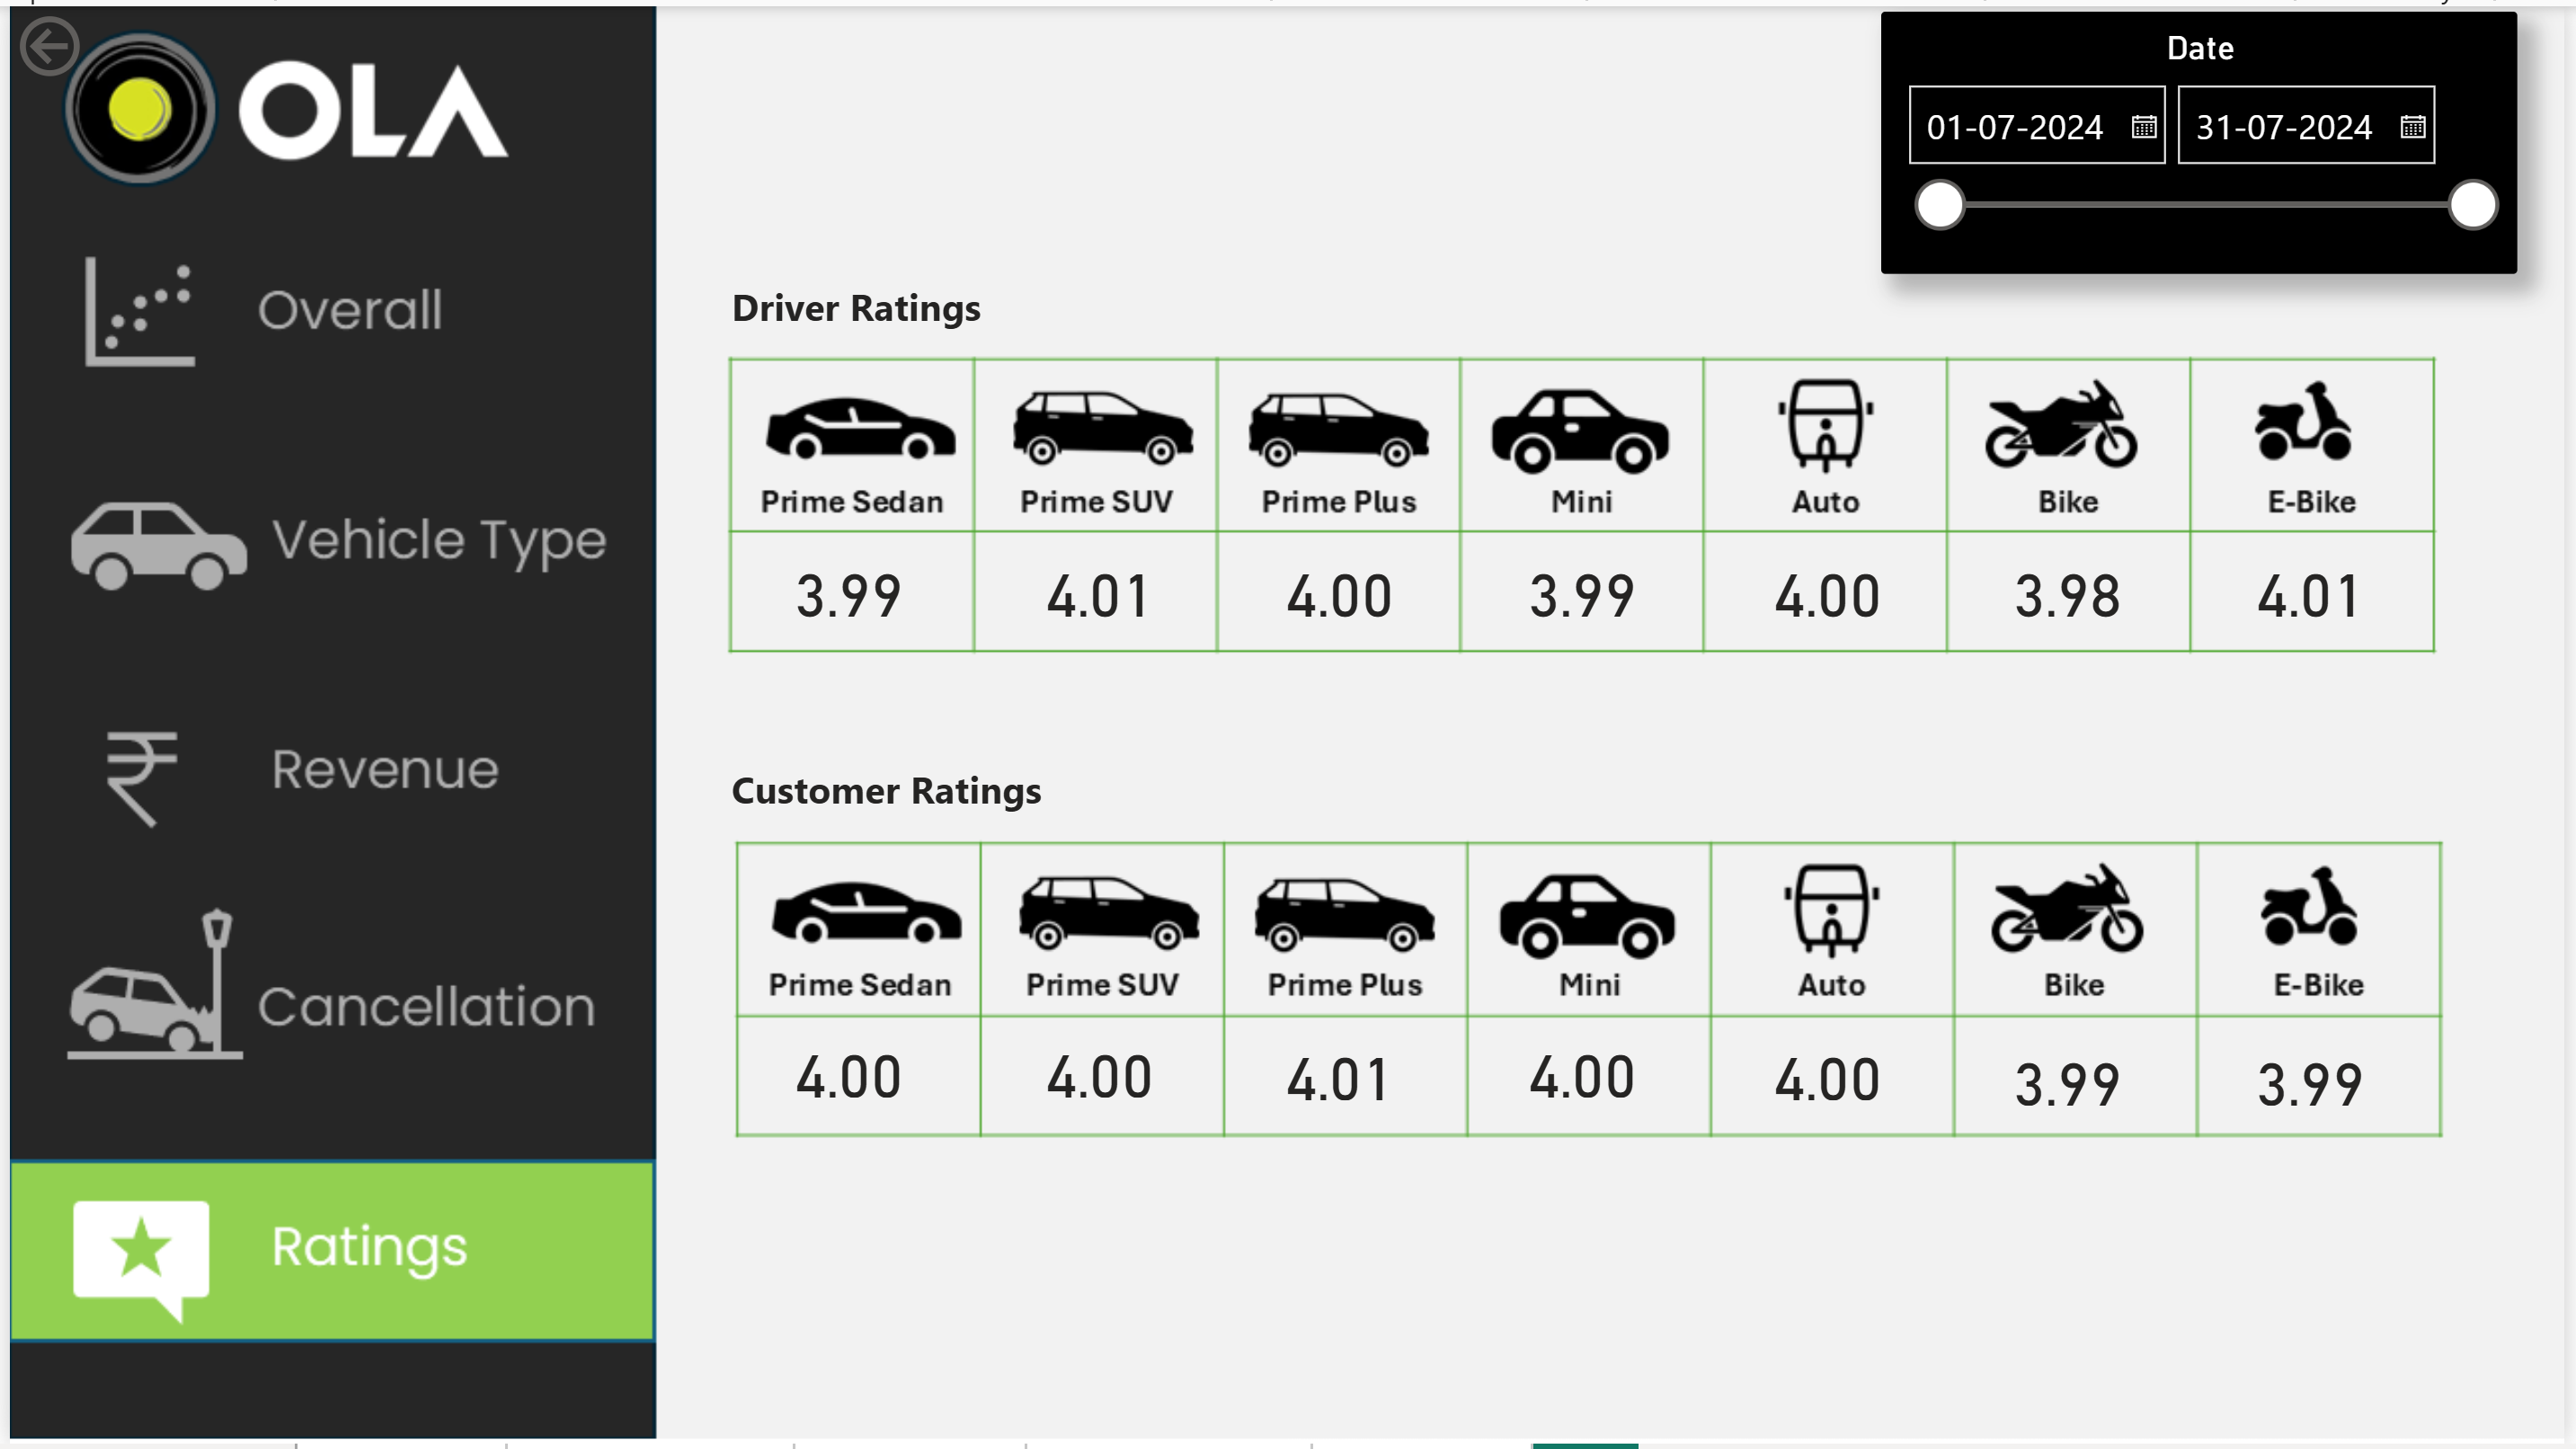

What the dashboard file says about the page in this screenshot:
{"tool":"powerbi","page":{"name":"Ratings","canvas":[1280,720],"ordinal":4},"visuals":[{"type":"actionButton","box":[0,106.2,326.2,91.2],"z":0},{"type":"actionButton","box":[0,223.8,326.2,91.2],"z":1000},{"type":"actionButton","box":[0,447.5,326.2,91.2],"z":2000},{"type":"actionButton","box":[0,338.8,326.2,91.2],"z":3000},{"type":"card","fields":{"Values":["Avg(July.Driver_Ratings)"]},"box":[367.1,270,105.7,45.7],"z":4000},{"type":"card","fields":{"Values":["Avg(July.Driver_Ratings)"]},"box":[492.9,270,105.7,45.7],"z":5000},{"type":"card","fields":{"Values":["Avg(July.Driver_Ratings)"]},"box":[612.9,270,105.7,45.7],"z":6000},{"type":"card","fields":{"Values":["Avg(July.Driver_Ratings)"]},"box":[734.3,270,105.7,45.7],"z":7000},{"type":"card","fields":{"Values":["Avg(July.Driver_Ratings)"]},"box":[857.1,270,105.7,45.7],"z":8000},{"type":"card","fields":{"Values":["Avg(July.Driver_Ratings)"]},"box":[978.6,270,105.7,45.7],"z":9000},{"type":"card","fields":{"Values":["Avg(July.Driver_Ratings)"]},"box":[1100,270,105.7,45.7],"z":10000},{"type":"textbox","box":[357.1,132.9,168.6,38.6],"z":11000},{"type":"textbox","box":[357.1,374.3,188.6,40],"z":12000},{"type":"card","fields":{"Values":["Avg(July.Customer_Rating)"]},"box":[367.1,515.7,105.7,35.7],"z":13000},{"type":"actionButton","box":[0,0,100,40],"z":14000},{"type":"card","fields":{"Values":["Avg(July.Customer_Rating)"]},"box":[492.9,515.7,105.7,35.7],"z":15000},{"type":"card","fields":{"Values":["Avg(July.Customer_Rating)"]},"box":[612.9,517.1,105.7,35.7],"z":16000},{"type":"card","fields":{"Values":["Avg(July.Customer_Rating)"]},"box":[734.3,515.7,105.7,35.7],"z":17000},{"type":"card","fields":{"Values":["Avg(July.Customer_Rating)"]},"box":[857.1,517.1,105.7,35.7],"z":18000},{"type":"card","fields":{"Values":["Avg(July.Customer_Rating)"]},"box":[978.6,520,105.7,35.7],"z":19000},{"type":"card","fields":{"Values":["Avg(July.Customer_Rating)"]},"box":[1100,520,105.7,35.7],"z":20000},{"type":"slicer","title":"Date","fields":{"Values":["July.Date"]},"box":[937.1,2.9,318.6,131.4],"z":21000}]}

Visuals, with their boxes in screenshot pixels (x1, y1, x2, y2), scaled from the page's 1280x720 canvas onto the 2576x1449 screenshot:
actionButton: x1=0, y1=214, x2=656, y2=397
actionButton: x1=0, y1=450, x2=656, y2=634
actionButton: x1=0, y1=901, x2=656, y2=1084
actionButton: x1=0, y1=682, x2=656, y2=866
card - Avg(July.Driver_Ratings): x1=739, y1=543, x2=952, y2=636
card - Avg(July.Driver_Ratings): x1=992, y1=543, x2=1204, y2=636
card - Avg(July.Driver_Ratings): x1=1233, y1=543, x2=1446, y2=636
card - Avg(July.Driver_Ratings): x1=1478, y1=543, x2=1691, y2=636
card - Avg(July.Driver_Ratings): x1=1725, y1=543, x2=1938, y2=636
card - Avg(July.Driver_Ratings): x1=1969, y1=543, x2=2182, y2=636
card - Avg(July.Driver_Ratings): x1=2214, y1=543, x2=2427, y2=636
textbox: x1=719, y1=268, x2=1058, y2=345
textbox: x1=719, y1=753, x2=1098, y2=834
card - Avg(July.Customer_Rating): x1=739, y1=1038, x2=952, y2=1110
actionButton: x1=0, y1=0, x2=201, y2=81
card - Avg(July.Customer_Rating): x1=992, y1=1038, x2=1204, y2=1110
card - Avg(July.Customer_Rating): x1=1233, y1=1041, x2=1446, y2=1113
card - Avg(July.Customer_Rating): x1=1478, y1=1038, x2=1691, y2=1110
card - Avg(July.Customer_Rating): x1=1725, y1=1041, x2=1938, y2=1113
card - Avg(July.Customer_Rating): x1=1969, y1=1046, x2=2182, y2=1118
card - Avg(July.Customer_Rating): x1=2214, y1=1046, x2=2427, y2=1118
"Date" slicer: x1=1886, y1=5, x2=2527, y2=271
